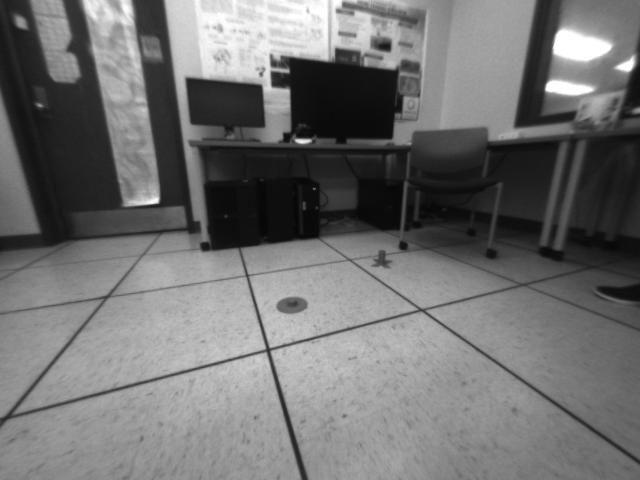X: (371, 249, 393, 270)
